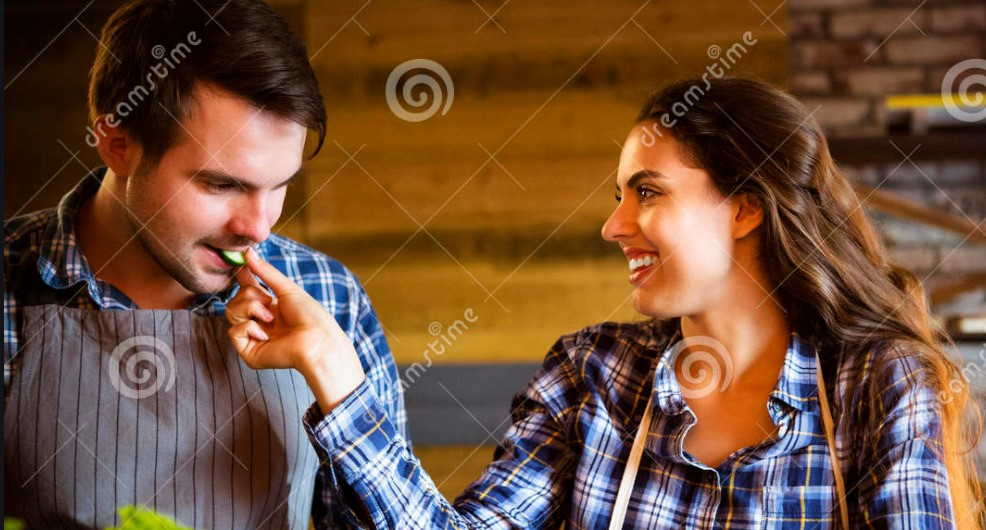Bad: (2, 1, 982, 530)
